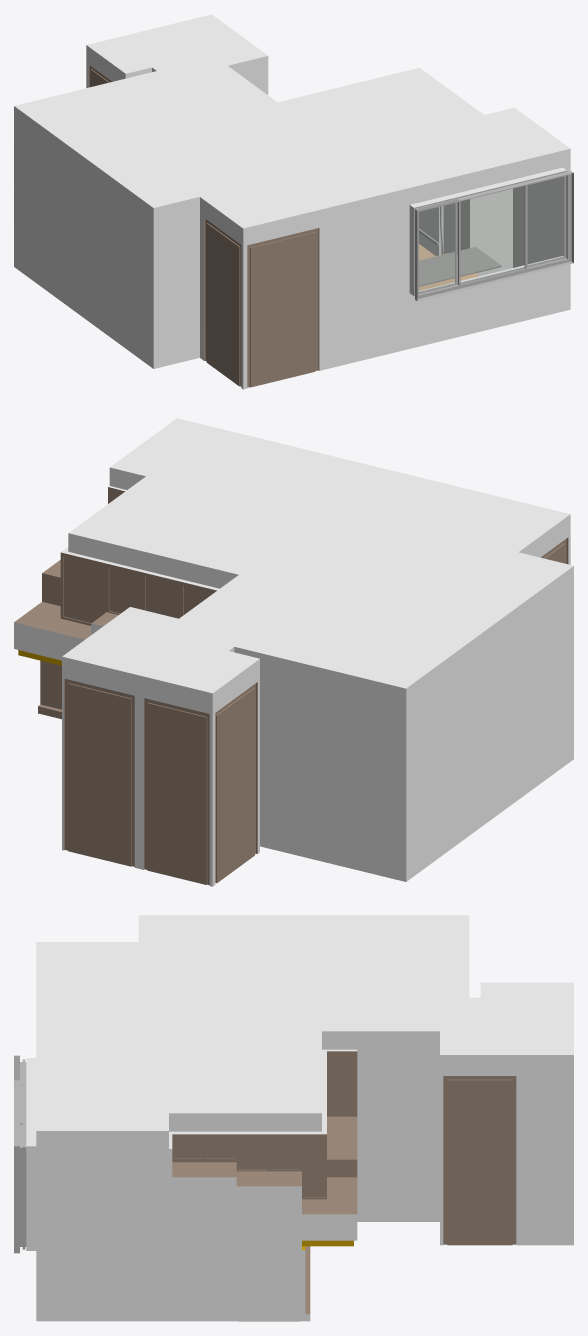
File: IC_509_UNDERGROUND_02.fbx
3 views of the same model, one above another, from view 1: azimuth 30°, elevation 25°; view 2: azimuth 150°, elevation 25°; view 3: azimuth 270°, elevation 25° (orthographic). The views are drawn at different scales.
Visible parts, largest first — view 1: room, glassPane_Outer (×2), glassPane_Center, fridge, beerPongTable, oven; view 2: room; view 3: room.
Part boxes in pixels (x1,y1,x2,y2): room: (14, 14, 573, 389); glassPane_Outer (×2): (419, 177, 564, 291); glassPane_Center: (461, 186, 524, 283); fridge: (440, 189, 512, 275); beerPongTable: (419, 247, 501, 286); oven: (419, 207, 441, 255); room: (14, 418, 573, 886); room: (14, 915, 573, 1321).
Size of the model in its own units: 5.69 by 2.35 by 6.24.
